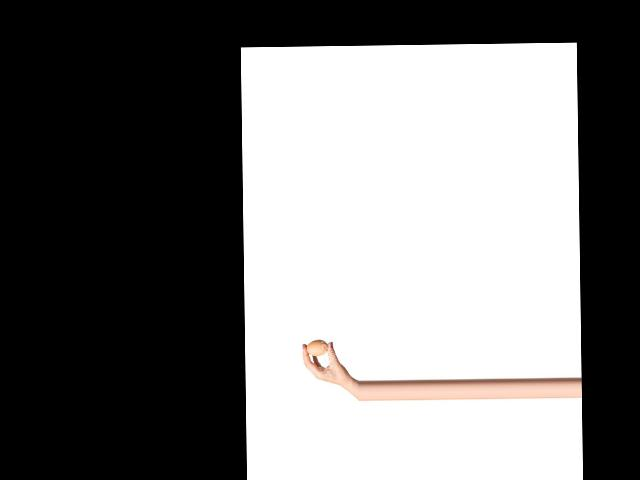egg: (306, 340, 328, 355)
